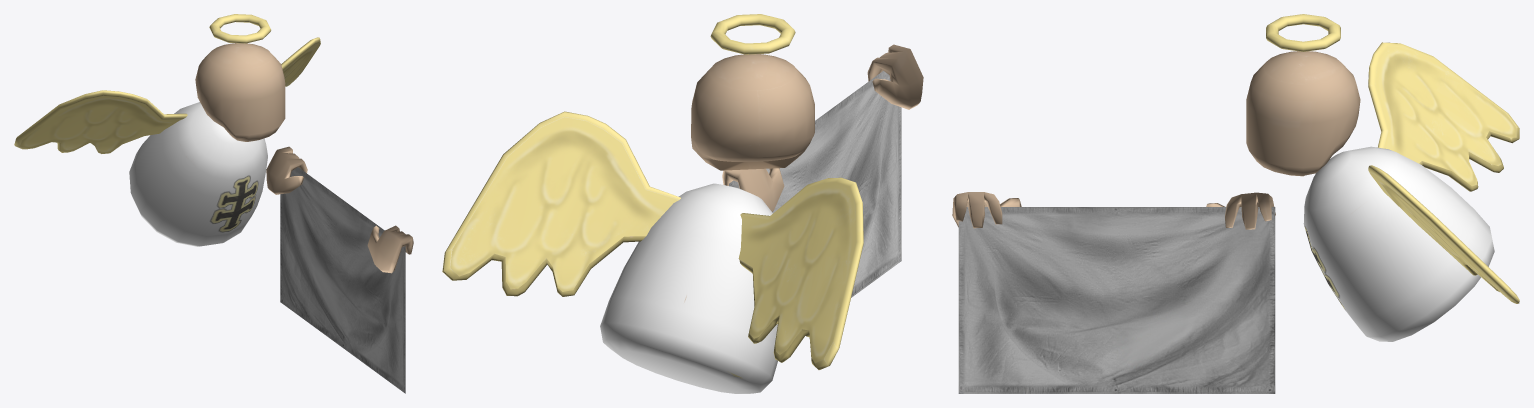
Rendered from PannelANGEL.fbx.
3 views of the same model, side by side, from view 1: azimuth 30°, elevation 25°; view 2: azimuth 150°, elevation 25°; view 3: azimuth 270°, elevation 25° (orthographic). The views are drawn at different scales.
Visible parts, largest first — view 1: pPlane1, Body2, Aile_ange, head1, polySurface4, polySurface7, pTorus2; view 2: Aile_ange, Body2, pPlane1, head1, polySurface4, pTorus2, polySurface7; view 3: pPlane1, Body2, Aile_ange, head1, pTorus2, polySurface4, polySurface7.
Boxes of the visible parts, x1=… form: pPlane1: x1=280, y1=167, x2=405, y2=393; Body2: x1=129, y1=102, x2=267, y2=246; Aile_ange: x1=14, y1=37, x2=320, y2=153; head1: x1=195, y1=43, x2=285, y2=141; polySurface4: x1=367, y1=225, x2=413, y2=273; polySurface7: x1=266, y1=146, x2=307, y2=194; pTorus2: x1=209, y1=14, x2=271, y2=43; Aile_ange: x1=442, y1=111, x2=863, y2=369; Body2: x1=600, y1=183, x2=777, y2=393; pPlane1: x1=729, y1=71, x2=901, y2=297; head1: x1=691, y1=54, x2=814, y2=170; polySurface4: x1=867, y1=44, x2=923, y2=109; pTorus2: x1=710, y1=14, x2=795, y2=54; polySurface7: x1=722, y1=168, x2=784, y2=211; pPlane1: x1=958, y1=207, x2=1275, y2=393; Body2: x1=1303, y1=146, x2=1494, y2=341; Aile_ange: x1=1368, y1=42, x2=1519, y2=303; head1: x1=1246, y1=51, x2=1360, y2=176; pTorus2: x1=1266, y1=14, x2=1340, y2=51; polySurface4: x1=952, y1=192, x2=1021, y2=228; polySurface7: x1=1206, y1=192, x2=1275, y2=229.
Bounding box in the file's own units: 628 × 577 × 854.
Materials: 2 (2 with a texture image).
